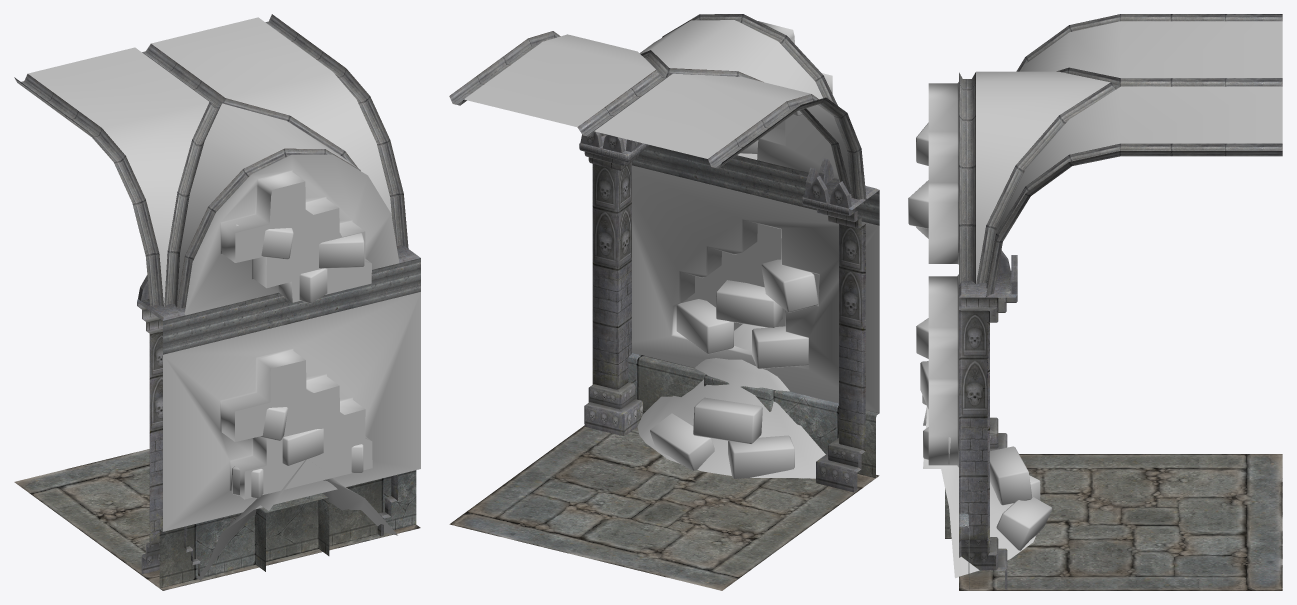
The model's file is Wall_Broken2.FBX.
3 views of the same model, side by side, from view 1: azimuth 30°, elevation 25°; view 2: azimuth 150°, elevation 25°; view 3: azimuth 270°, elevation 25° (orthographic). The views are drawn at different scales.
Visible parts, largest first — view 1: Wall_02; view 2: Wall_02; view 3: Wall_02.
Part boxes in pixels (x1,y1,x2,y2): Wall_02: [14, 14, 420, 590]; Wall_02: [449, 14, 879, 590]; Wall_02: [908, 14, 1282, 590].
Bounding box in the file's own units: 500 × 762 × 578.
